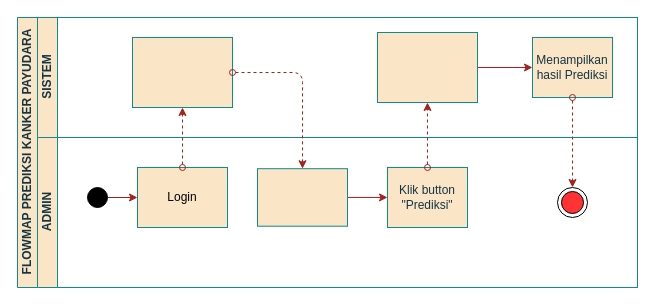
Image size: 655x305. Some labels were removed from this diagram. Each missing label, with the centre of its shape:
"input nilai variabel dalam bentuk angka" belongs at point 302,197.
"Masuk ke halaman prediksi kanker payudara" belongs at point 182,72.
"Melakukan Proses Prediksi" belongs at point 427,67.
